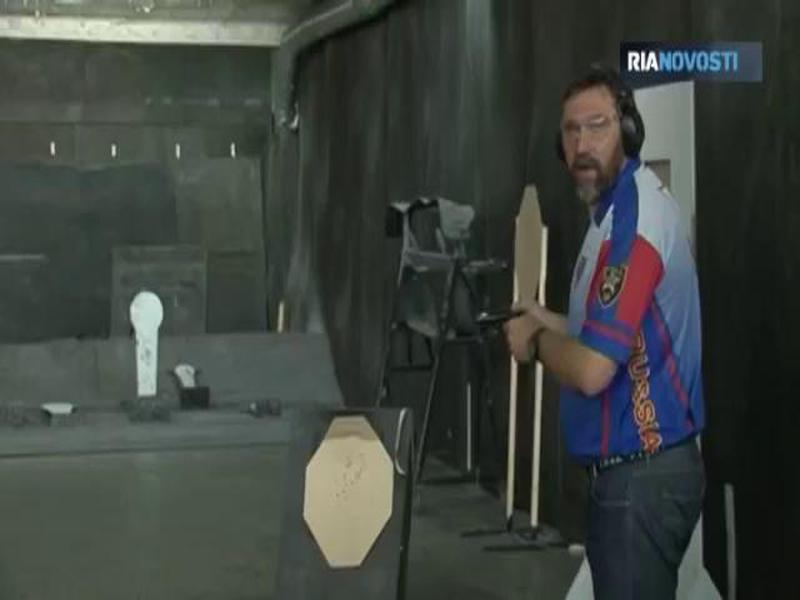Pistola: (472, 308, 547, 364)
